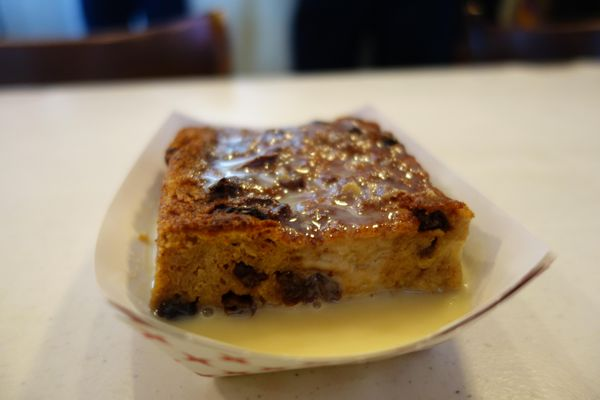curry: (3, 46, 590, 395)
sushi: (147, 116, 475, 317)
